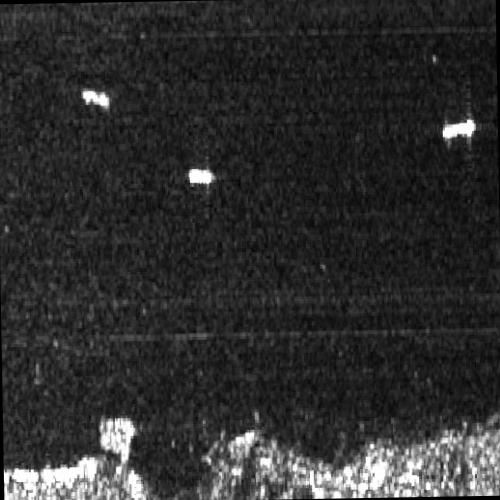ship: (441, 117, 476, 141), (80, 89, 111, 110), (187, 168, 215, 186)
